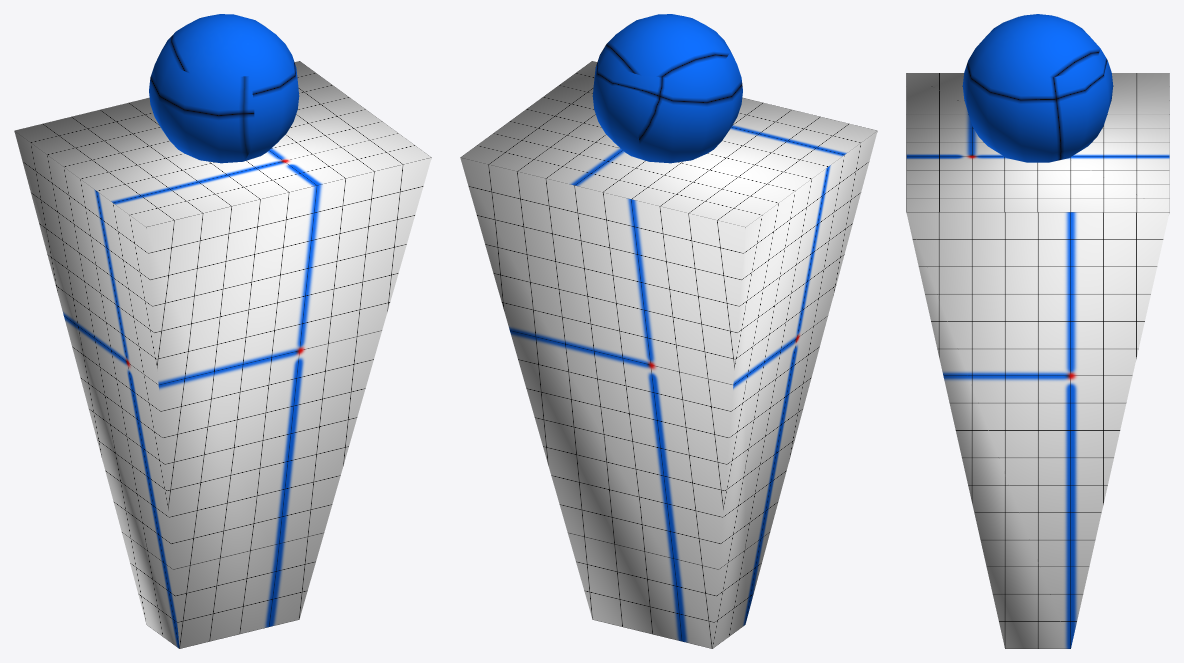
File: BlueChar.fbx
The picture shows the model from 3 angles, left to right: view 1: azimuth 30°, elevation 25°; view 2: azimuth 150°, elevation 25°; view 3: azimuth 270°, elevation 25°; orthographic projection.
Parts seen in each view (by area): view 1: BlueChar; view 2: BlueChar; view 3: BlueChar.
Boxes of the visible parts, box(x1,y1,x2,y2) form: BlueChar: box(14, 14, 431, 648); BlueChar: box(460, 14, 877, 648); BlueChar: box(906, 14, 1169, 648).
Bounding box in the file's own units: 1 × 2.01 × 0.8.
